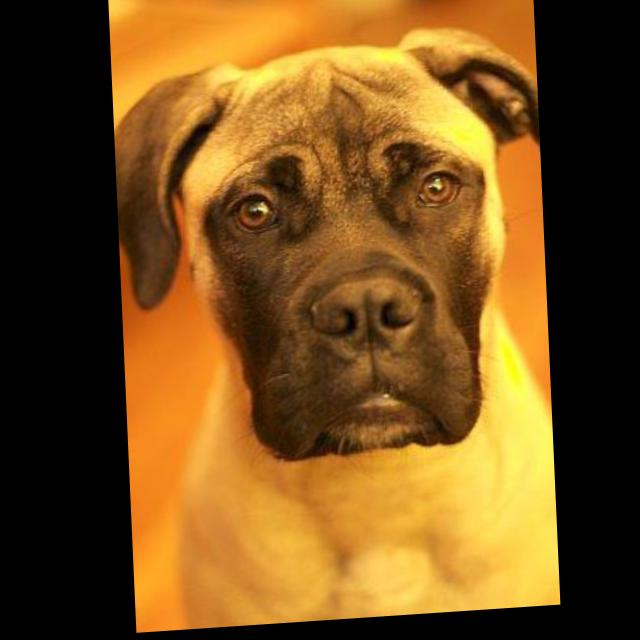bullmastiff: (111, 27, 555, 635)
